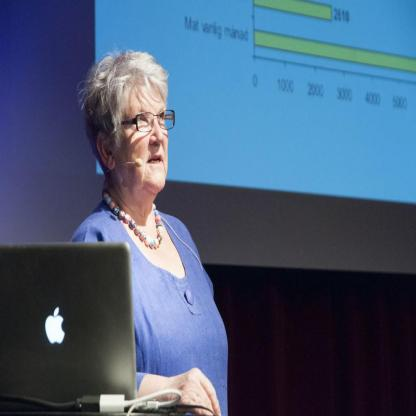board: (0, 240, 139, 416)
